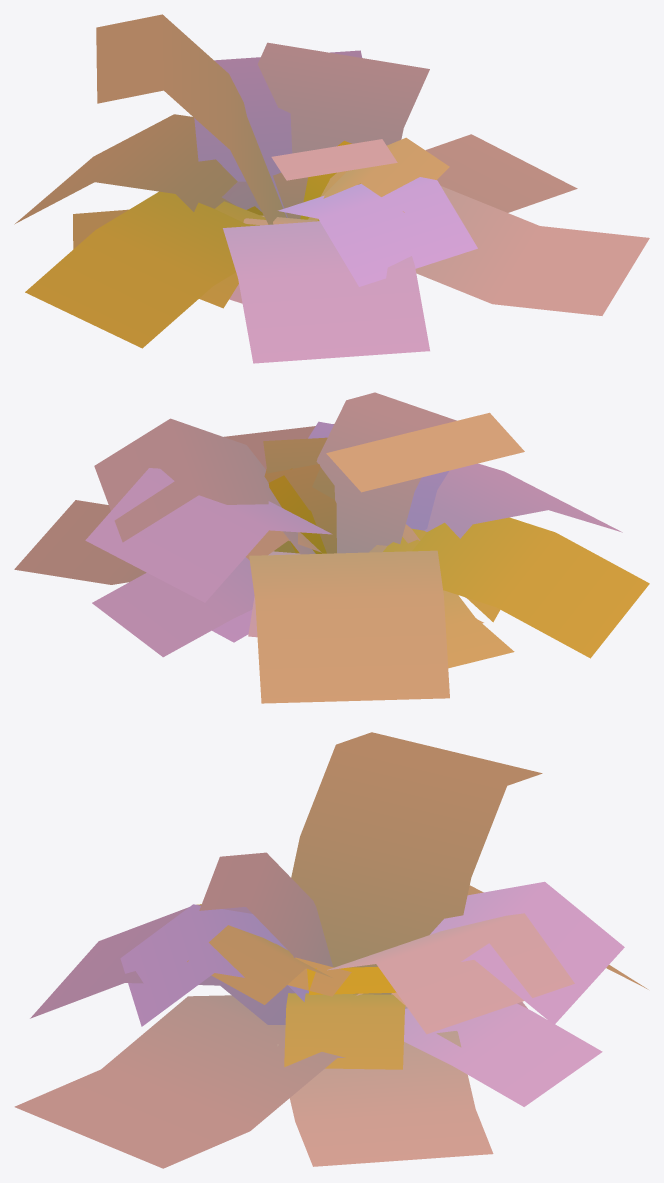
The model's file is tv_fern.glb.
3 renders of one model, top to bottom at view 1: azimuth 30°, elevation 25°; view 2: azimuth 150°, elevation 25°; view 3: azimuth 270°, elevation 25°, orthographic. The views are drawn at different scales.
Visible parts, largest first — view 1: tv_fern_v2_lod0, tv_fern_v1_lod0, tv_fern_v0_lod0; view 2: tv_fern_v2_lod0, tv_fern_v1_lod0, tv_fern_v0_lod0; view 3: tv_fern_v2_lod0, tv_fern_v1_lod0, tv_fern_v0_lod0.
Boxes of the visible parts, x1=… form: tv_fern_v2_lod0: x1=14, y1=14, x2=649, y2=363; tv_fern_v1_lod0: x1=73, y1=137, x2=449, y2=308; tv_fern_v0_lod0: x1=229, y1=140, x2=364, y2=303; tv_fern_v2_lod0: x1=14, y1=412, x2=649, y2=703; tv_fern_v1_lod0: x1=92, y1=392, x2=514, y2=668; tv_fern_v0_lod0: x1=212, y1=464, x2=483, y2=642; tv_fern_v2_lod0: x1=14, y1=732, x2=648, y2=1168; tv_fern_v1_lod0: x1=187, y1=852, x2=602, y2=1106; tv_fern_v0_lod0: x1=288, y1=957, x2=406, y2=1006.
Size of what is drawn, in the model's own units: 3.76 by 1.29 by 3.61.
